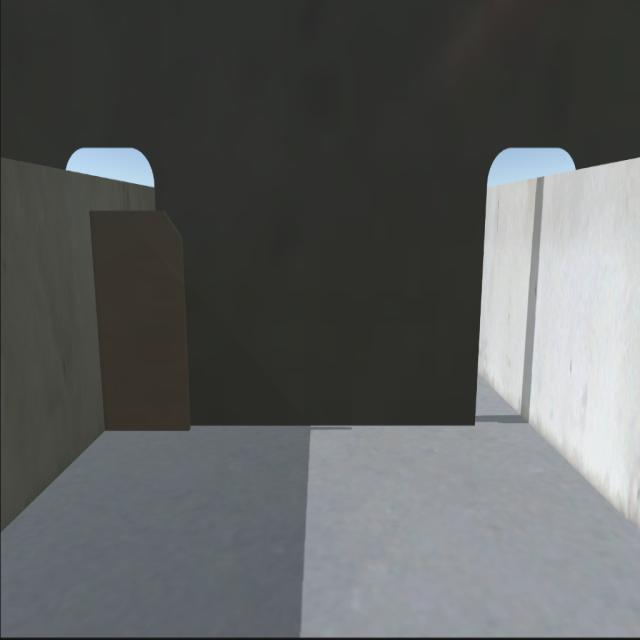fillet_yong_jeop_jang: (102, 414, 476, 436)
longi_yong_jeop_jang: (85, 216, 114, 429)
plate_CP03: (90, 210, 192, 427)
